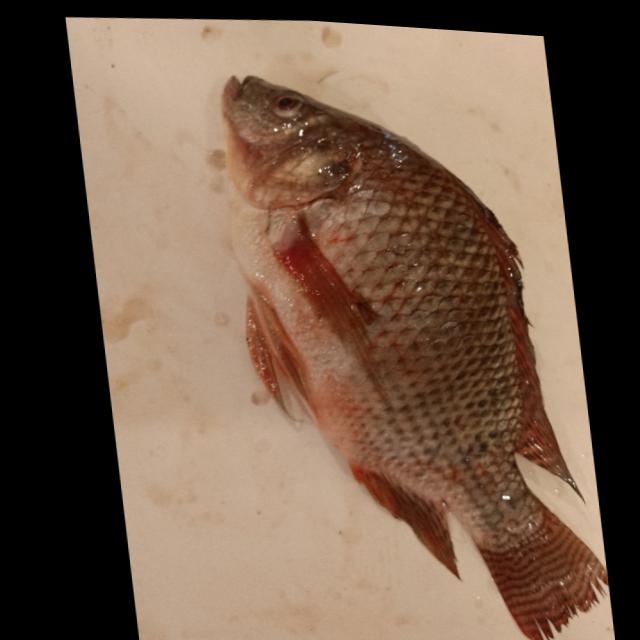Tilapia: (210, 60, 617, 640)
